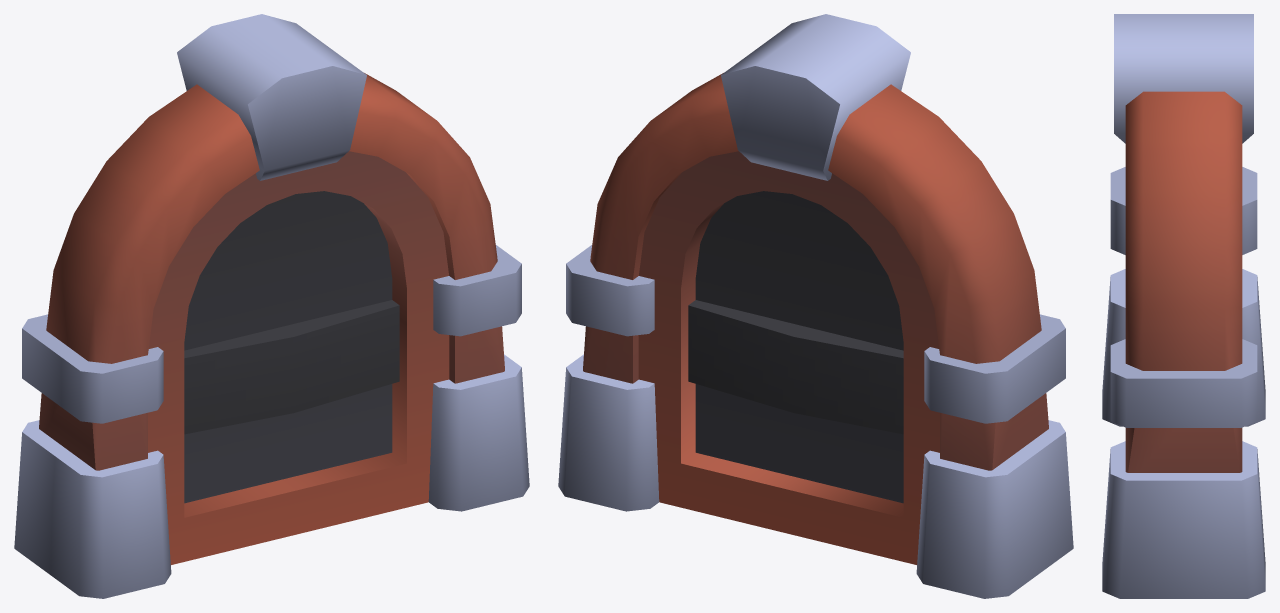
File: gate-door.glb
The picture shows the model from 3 angles, left to right: view 1: azimuth 30°, elevation 25°; view 2: azimuth 150°, elevation 25°; view 3: azimuth 270°, elevation 25°; orthographic projection.
Parts seen in each view (by area): view 1: gate-door, door; view 2: gate-door, door; view 3: gate-door.
Part boxes in pixels (x1,y1,x2,y2): gate-door: (14, 14, 529, 598); door: (148, 151, 449, 564); gate-door: (558, 14, 1073, 598); door: (638, 151, 939, 564); gate-door: (1102, 14, 1265, 598).
Bounding box in the file's own units: 4.4 × 4.4 × 1.4.
1 material, 1 textured.
